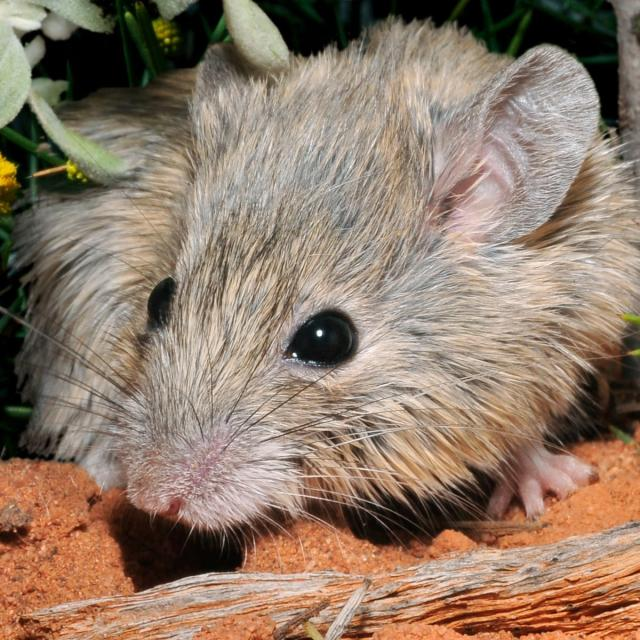Mouse: (16, 17, 634, 530)
